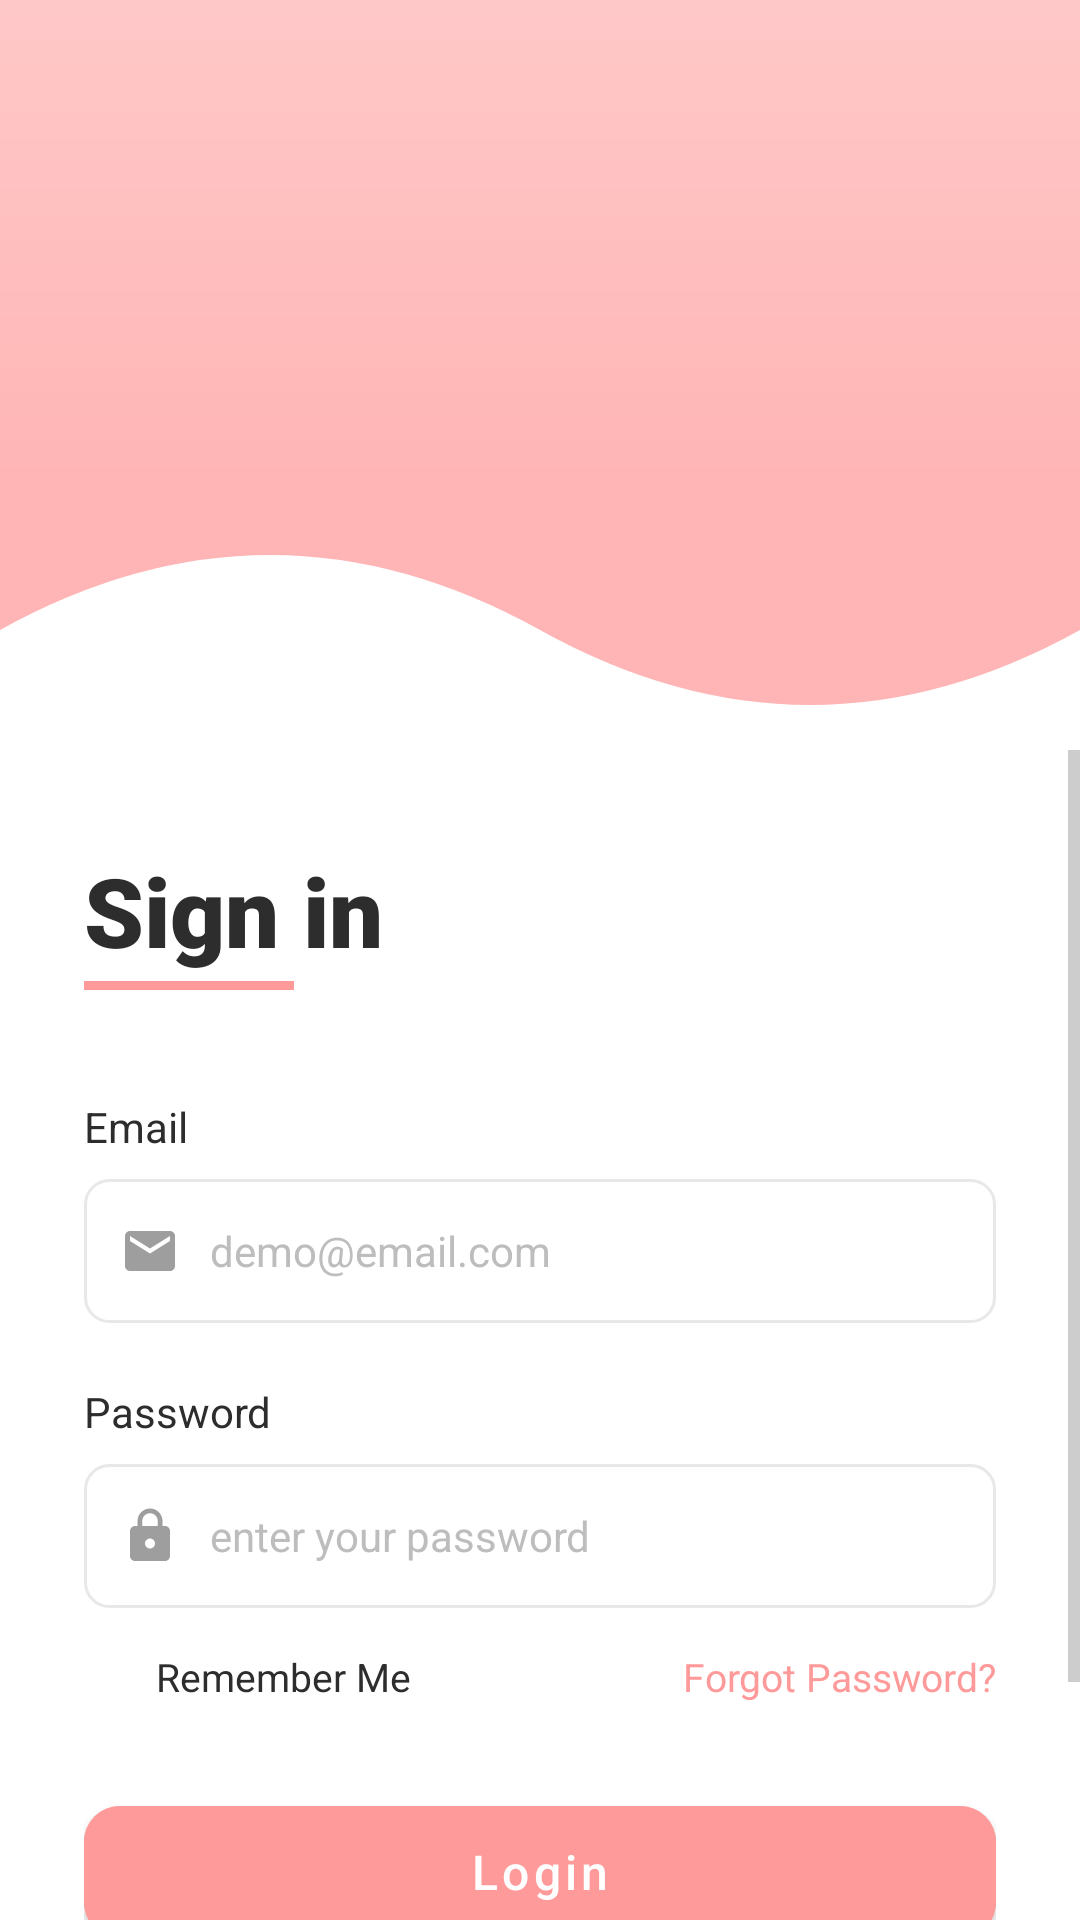

Screen size 1080 x 1920. Icon name, then its box in pixels as (x1, y1, x2, y2):
lock: (130, 1508, 170, 1561)
